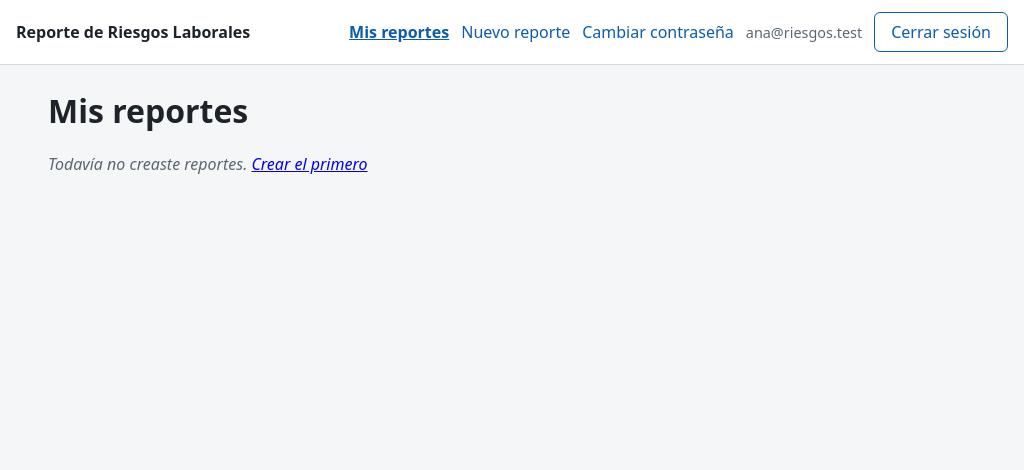
Test: Cerrar sesión (FR-005a) › si la sesión ya había vencido, igual vuelve al login
The width and height of the screenshot is (1024, 470).
Click the button "Cerrar sesión" at (941, 32), box left=874, top=12, right=1008, bottom=52
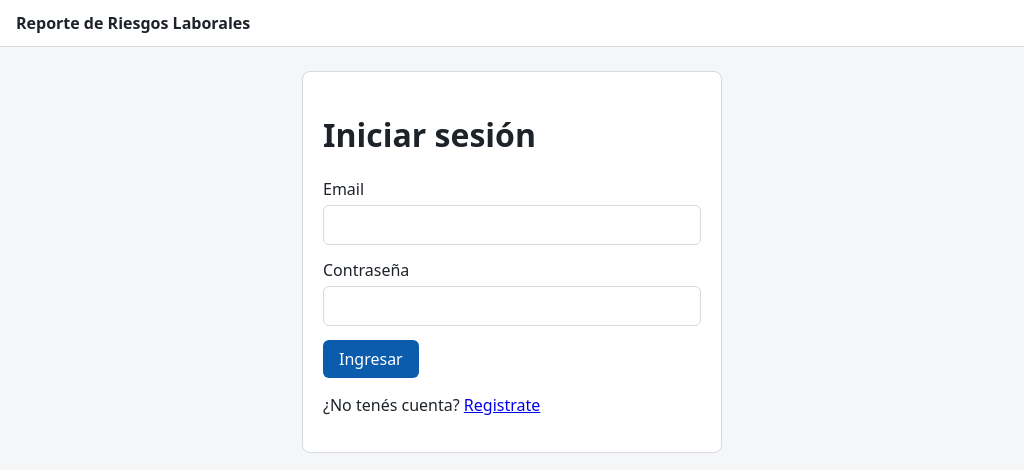
Now the heading "Iniciar sesión" is shown, box left=323, top=113, right=536, bottom=156
